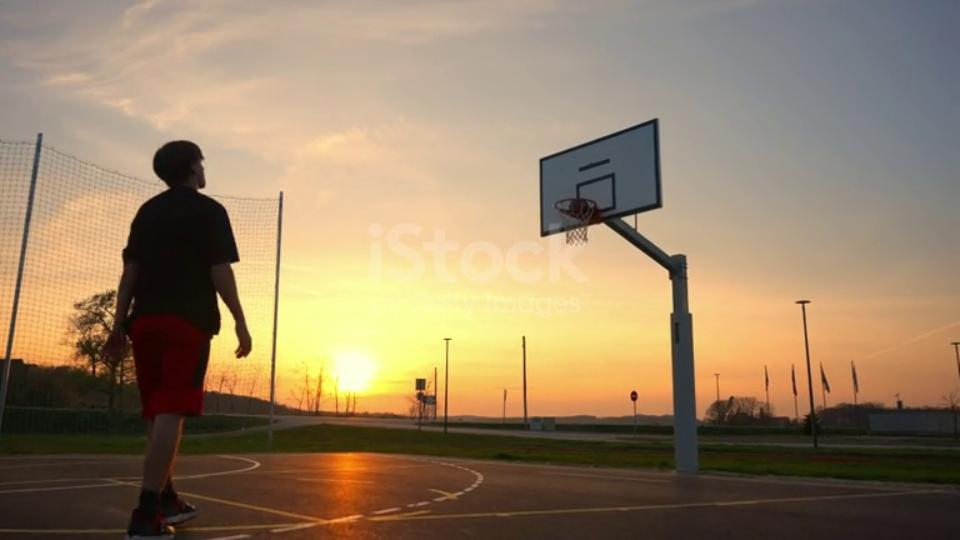hoop: (550, 197, 610, 224)
